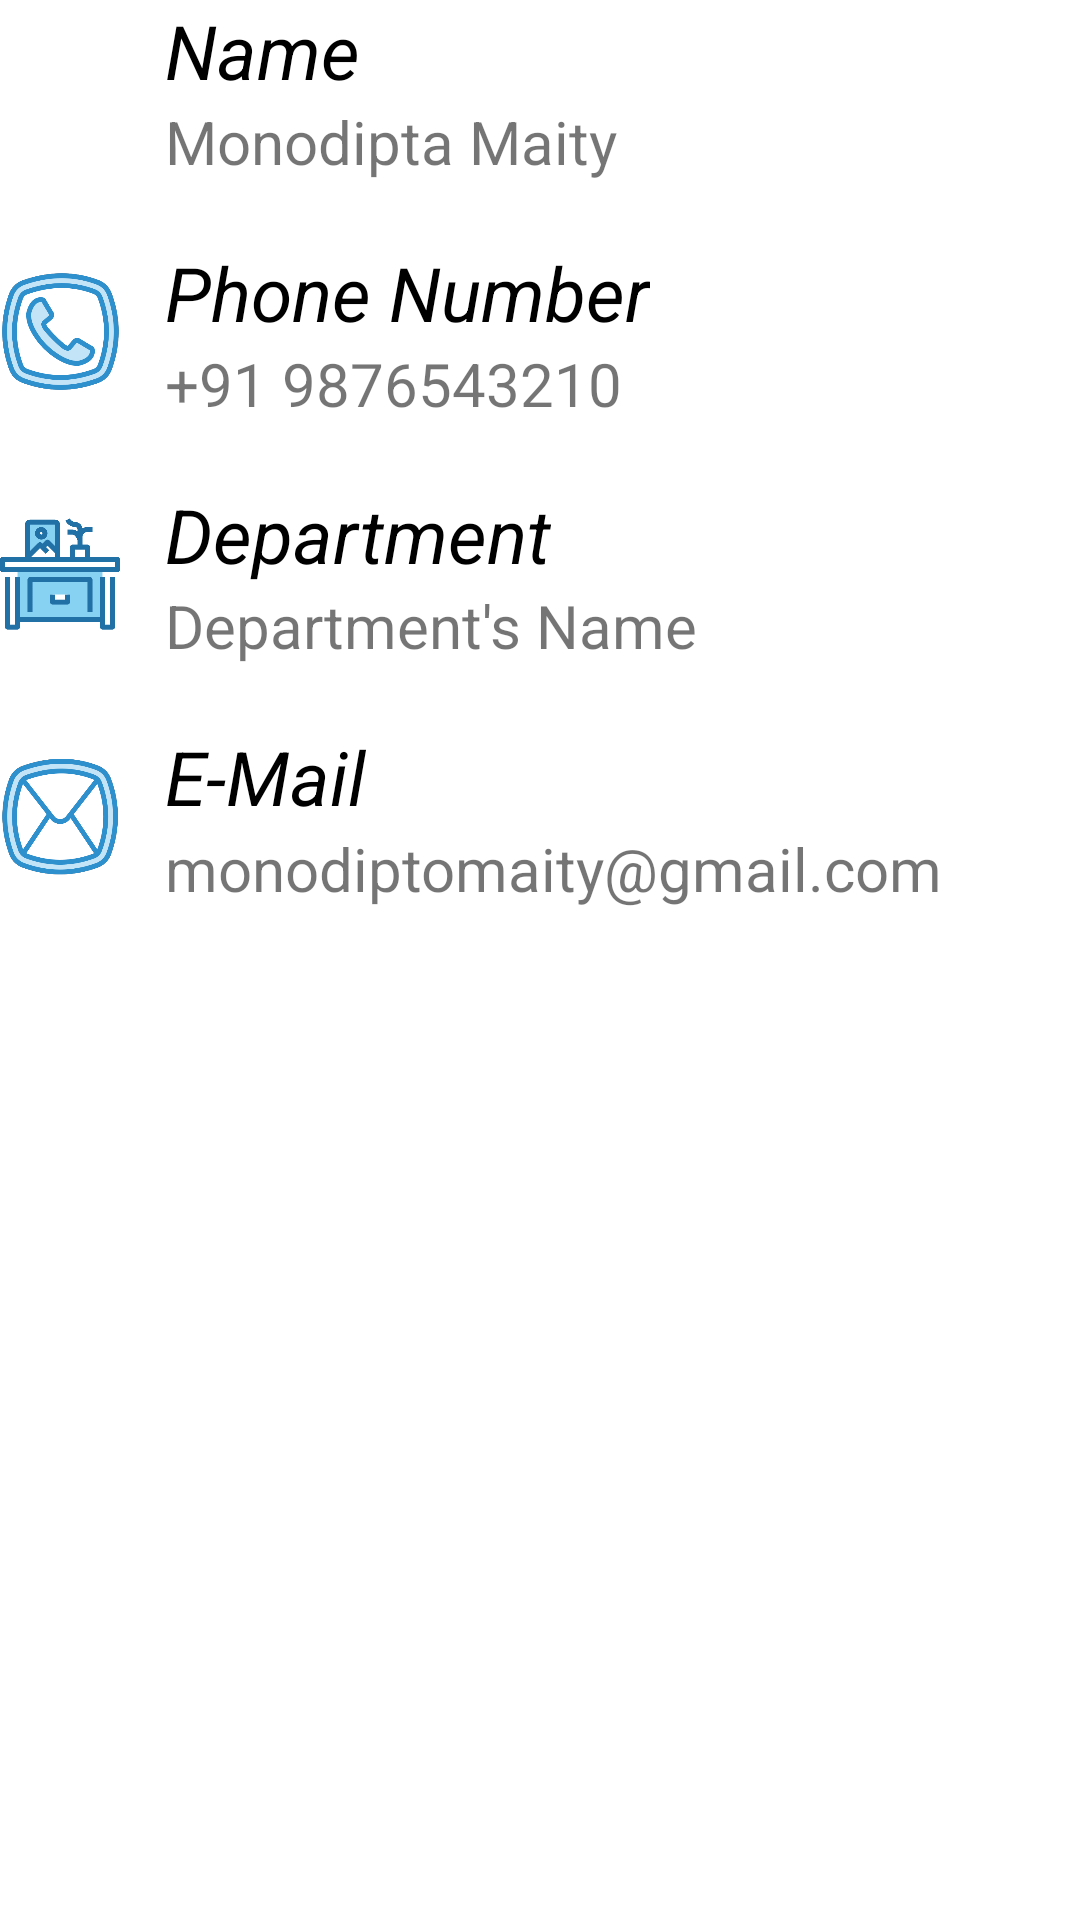

Screen size 1080×1920. Icon name, then its box in pixels as (x1, y1, x2, y2):
call: (2, 273, 119, 390)
message: (2, 759, 118, 875)
